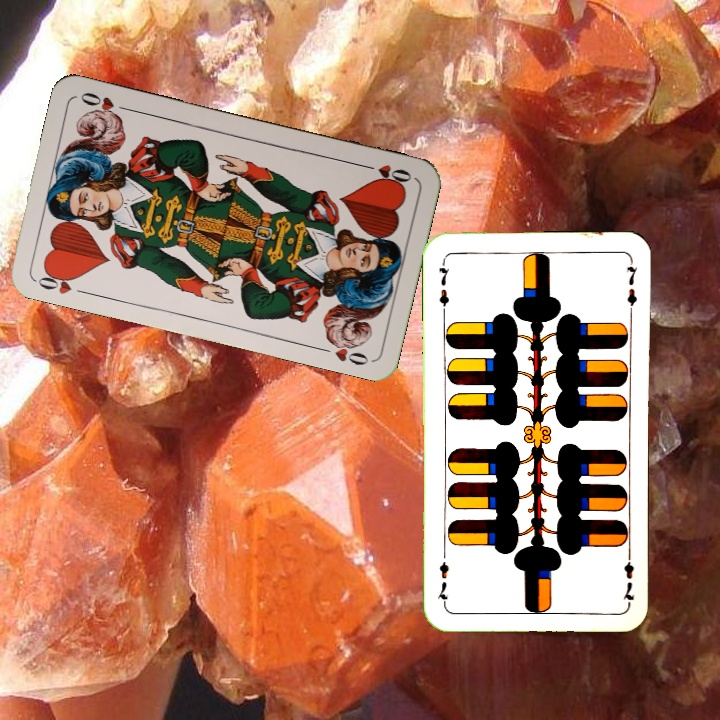E7: (434, 257, 452, 316), (619, 546, 637, 605)
HO: (31, 265, 90, 297), (357, 160, 415, 188)
